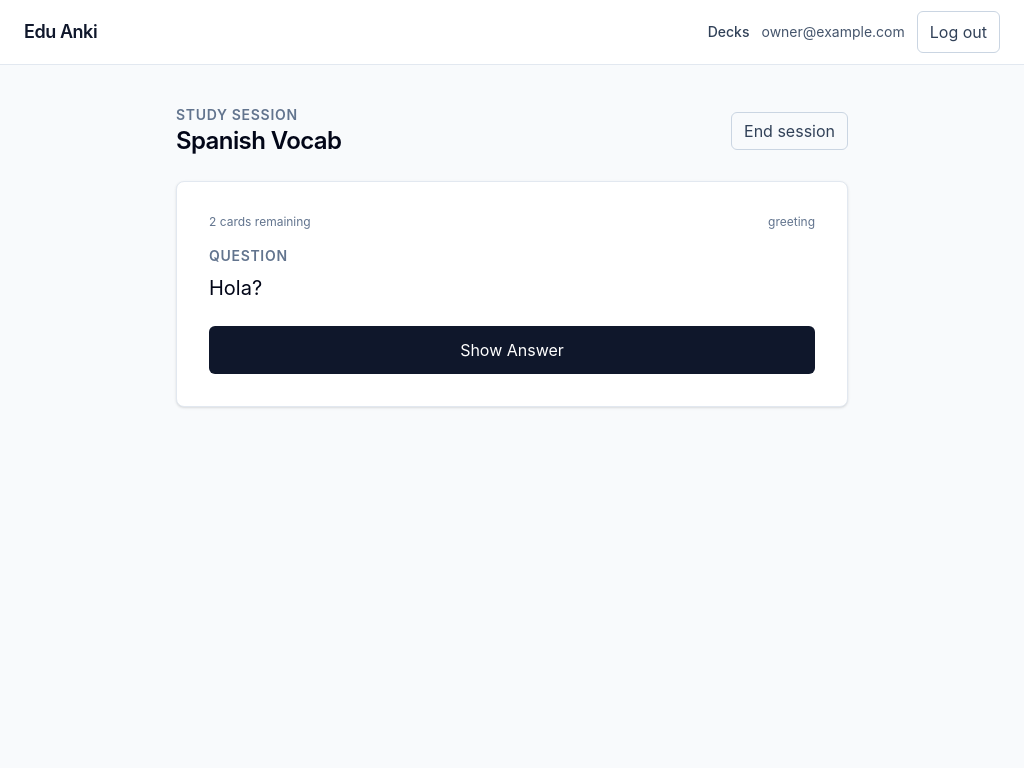
Test: Study route › reverts the optimistic update and shows an error when the mutation fails
Expected: the text "Hola?" is shown, [209,276,262,300]
Click the button "Show Answer" at (512, 350), box [209,326,815,374]
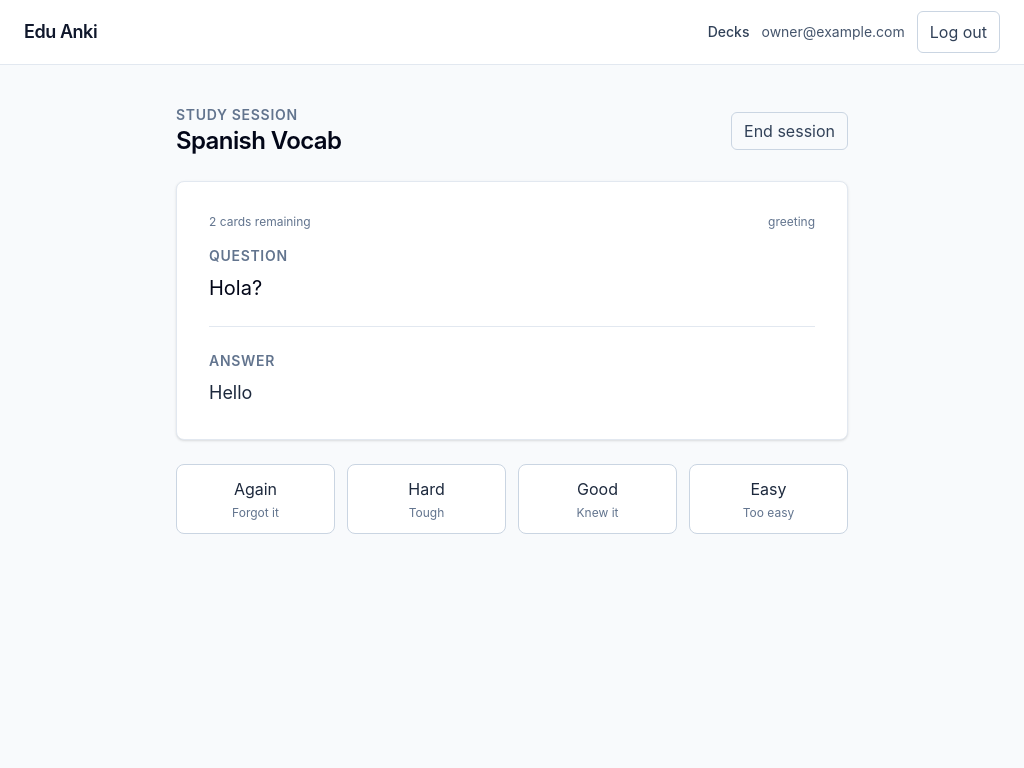
Click the button "Good Knew it" at (598, 499), box [518,464,677,534]
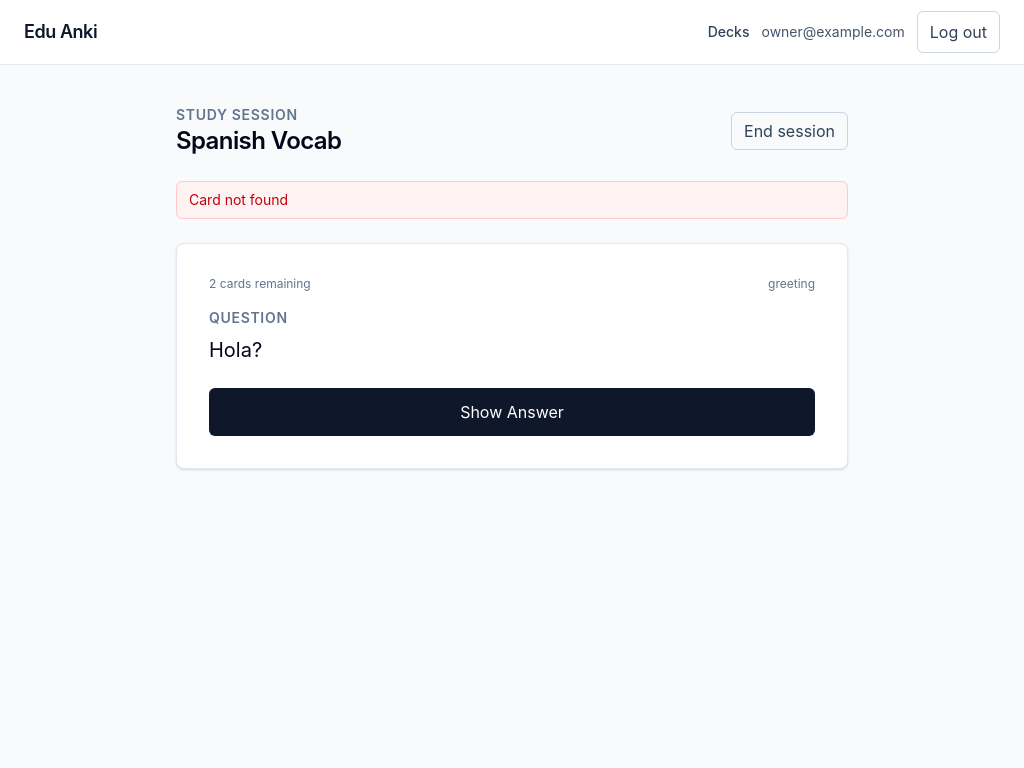
Expected: the text "Hola?" is shown, [209,338,262,362]
Expected: the message reads "Card not found", [189,191,288,208]
